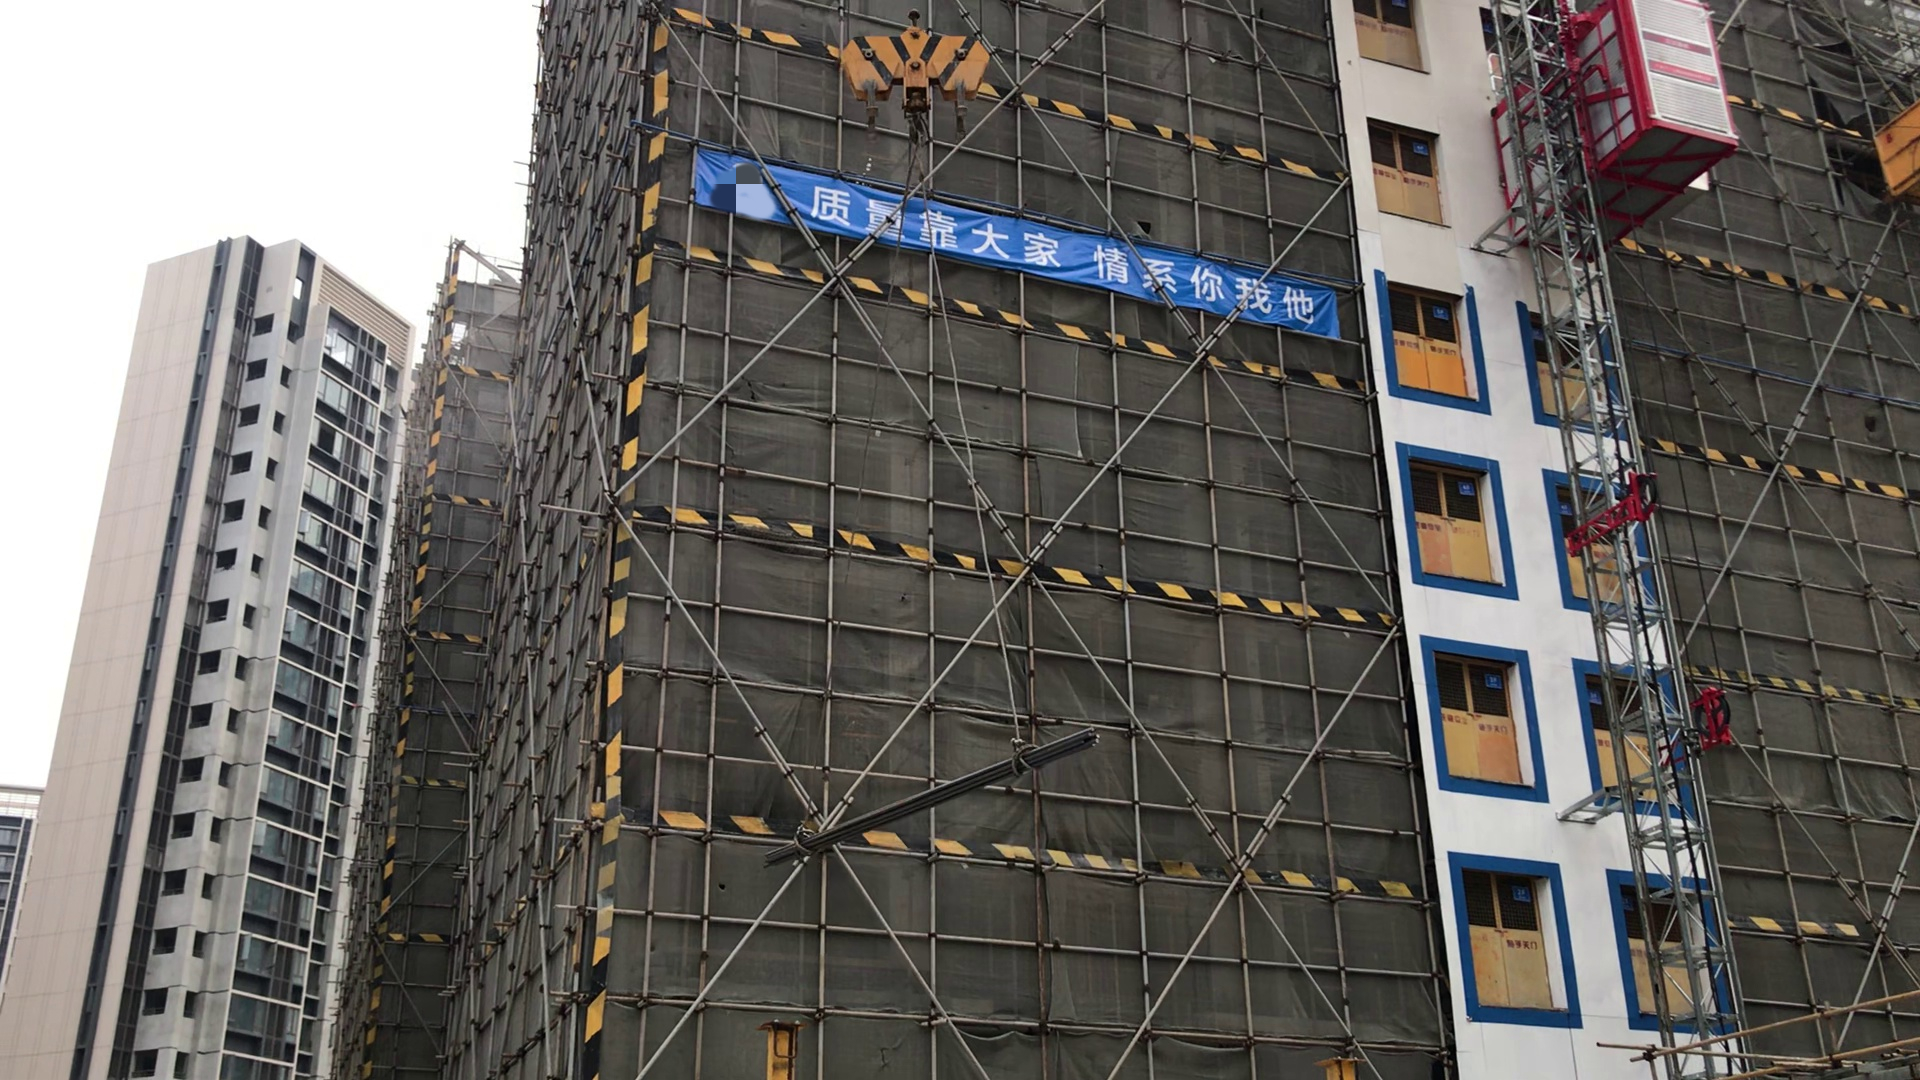hook: (802, 4, 1048, 181)
rebar: (760, 727, 1100, 876)
slogan: (684, 142, 1346, 367)
